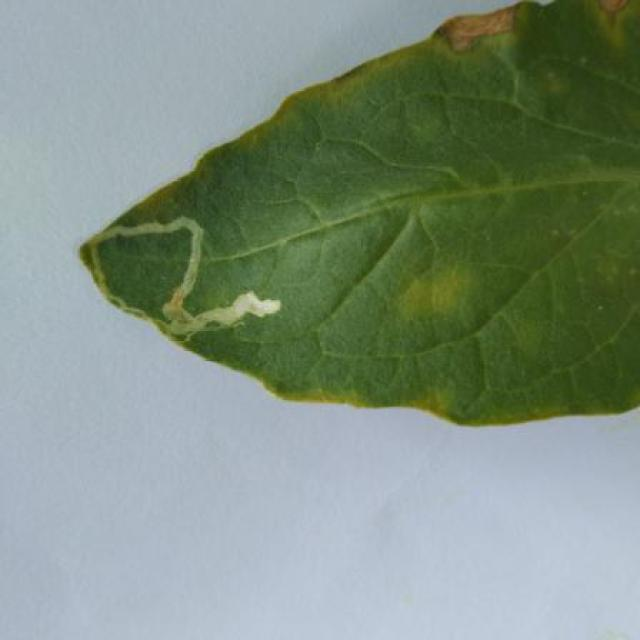Leaf Miner: (70, 0, 640, 429)
